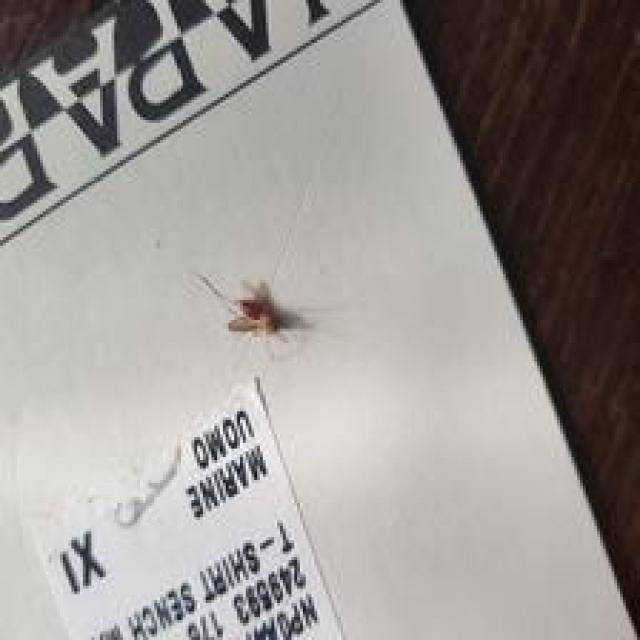Culex: (196, 270, 313, 347)
